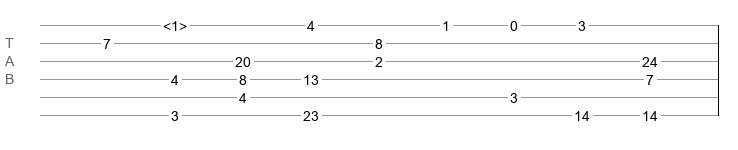0: (510, 18, 518, 28)
1: (442, 18, 450, 28)
13: (303, 72, 319, 82)
14: (574, 108, 590, 118), (642, 108, 658, 118)
2: (375, 54, 383, 64)
20: (235, 54, 251, 64)
23: (303, 108, 319, 118)
24: (642, 54, 658, 64)
3: (171, 108, 179, 118), (510, 90, 518, 100), (578, 18, 586, 28)
4: (171, 72, 179, 82), (239, 90, 247, 100), (307, 18, 315, 28)
7: (103, 36, 111, 46), (646, 72, 654, 82)
8: (239, 72, 247, 82), (375, 36, 383, 46)
harmonic: (163, 18, 187, 28)
